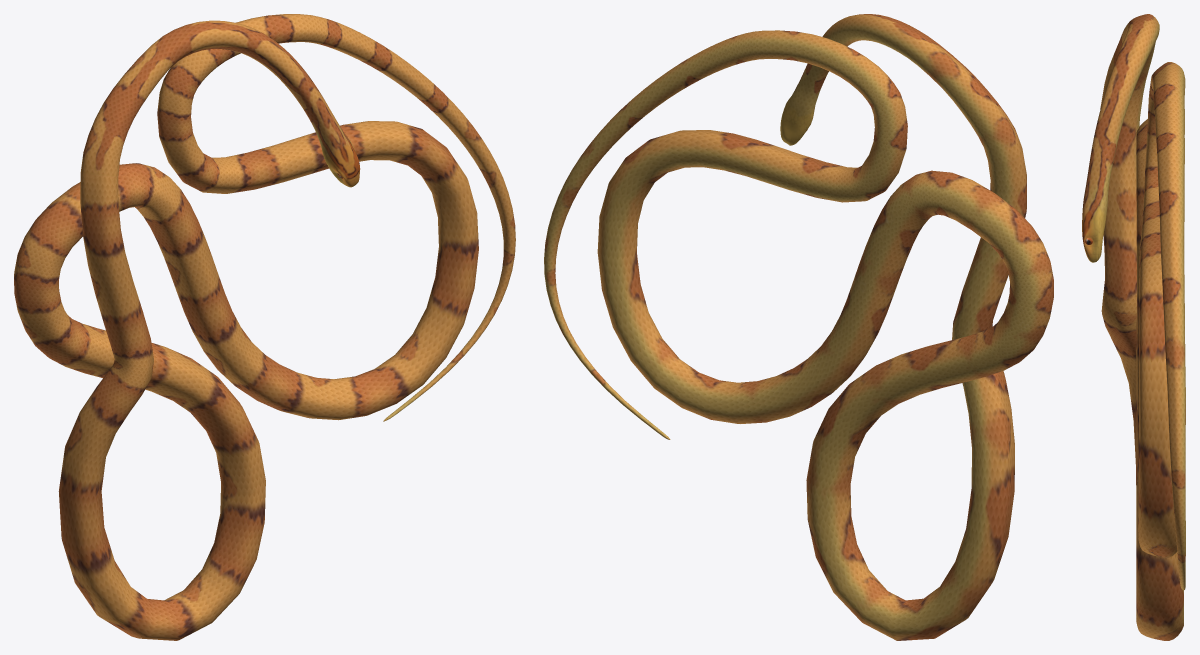
The model's file is 13106_Corn_Snake_v1_l2.obj.
The picture shows the model from 3 angles, left to right: view 1: azimuth 30°, elevation 25°; view 2: azimuth 150°, elevation 25°; view 3: azimuth 270°, elevation 25°; orthographic projection. The views are drawn at different scales.
Visible parts, largest first — view 1: Corn_Snake; view 2: Corn_Snake; view 3: Corn_Snake.
Boxes of the visible parts, x1,y1,x2,y2 form: Corn_Snake: [14, 14, 515, 640]; Corn_Snake: [544, 14, 1053, 640]; Corn_Snake: [1082, 14, 1185, 640].
Size of the model in its own units: 43.27 by 50.25 by 7.62.
Materials: 1 (1 with a texture image).
